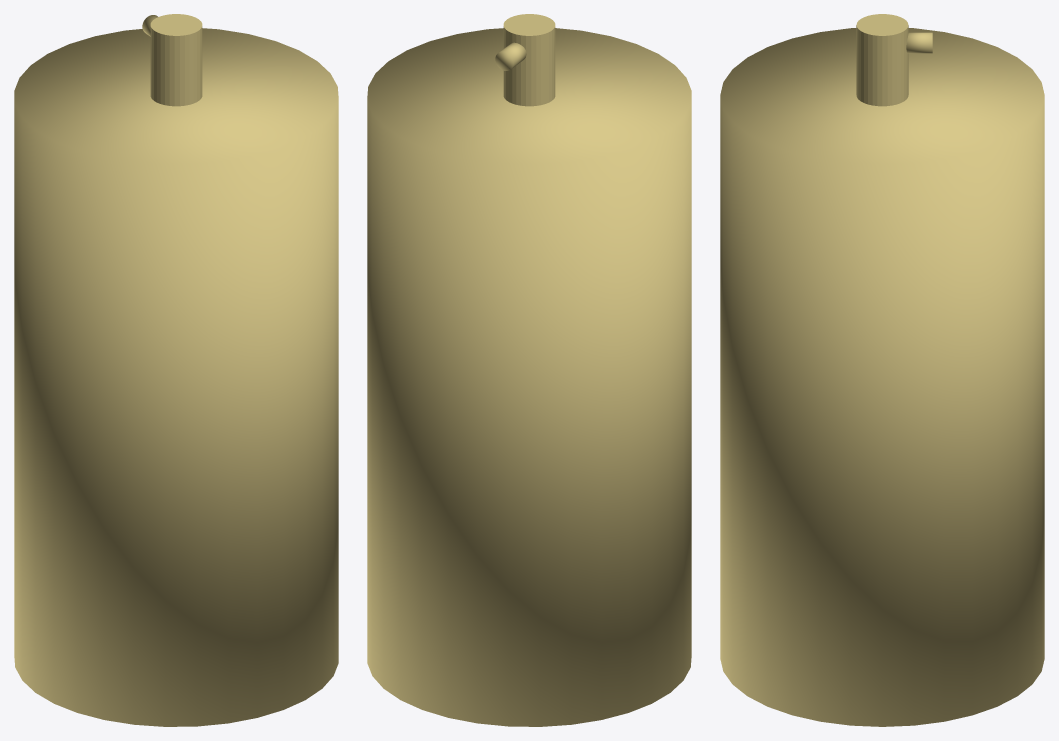
The model's file is sprayBottle.fbx.
3 renders of one model, left to right at view 1: azimuth 30°, elevation 25°; view 2: azimuth 150°, elevation 25°; view 3: azimuth 270°, elevation 25°, orthographic.
Parts seen in each view (by area): view 1: Cylinder.001; view 2: Cylinder.001; view 3: Cylinder.001.
Part boxes in pixels (x1=…): Cylinder.001: x1=14, y1=14, x2=338, y2=726; Cylinder.001: x1=367, y1=14, x2=691, y2=726; Cylinder.001: x1=720, y1=14, x2=1044, y2=726.
Size of the model in its own units: 18.77 by 40.29 by 18.72.
